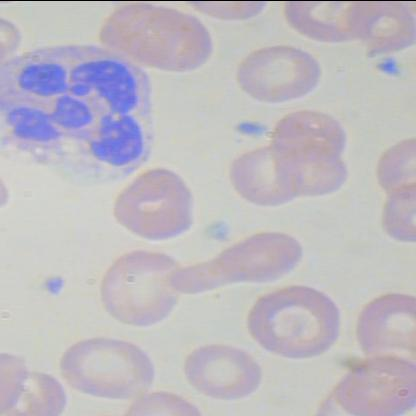Platelets: (228, 115, 271, 137), (37, 270, 70, 298), (200, 218, 234, 245), (375, 48, 407, 76)
RBC: (168, 228, 308, 298), (245, 278, 344, 362), (94, 247, 192, 330), (105, 162, 204, 242), (56, 328, 156, 402), (230, 34, 328, 108), (95, 1, 188, 72), (184, 340, 272, 402), (352, 286, 416, 370), (144, 6, 218, 76), (228, 147, 308, 208), (270, 107, 350, 168), (346, 1, 415, 58), (288, 146, 358, 202)
WBC: (1, 48, 161, 200)
